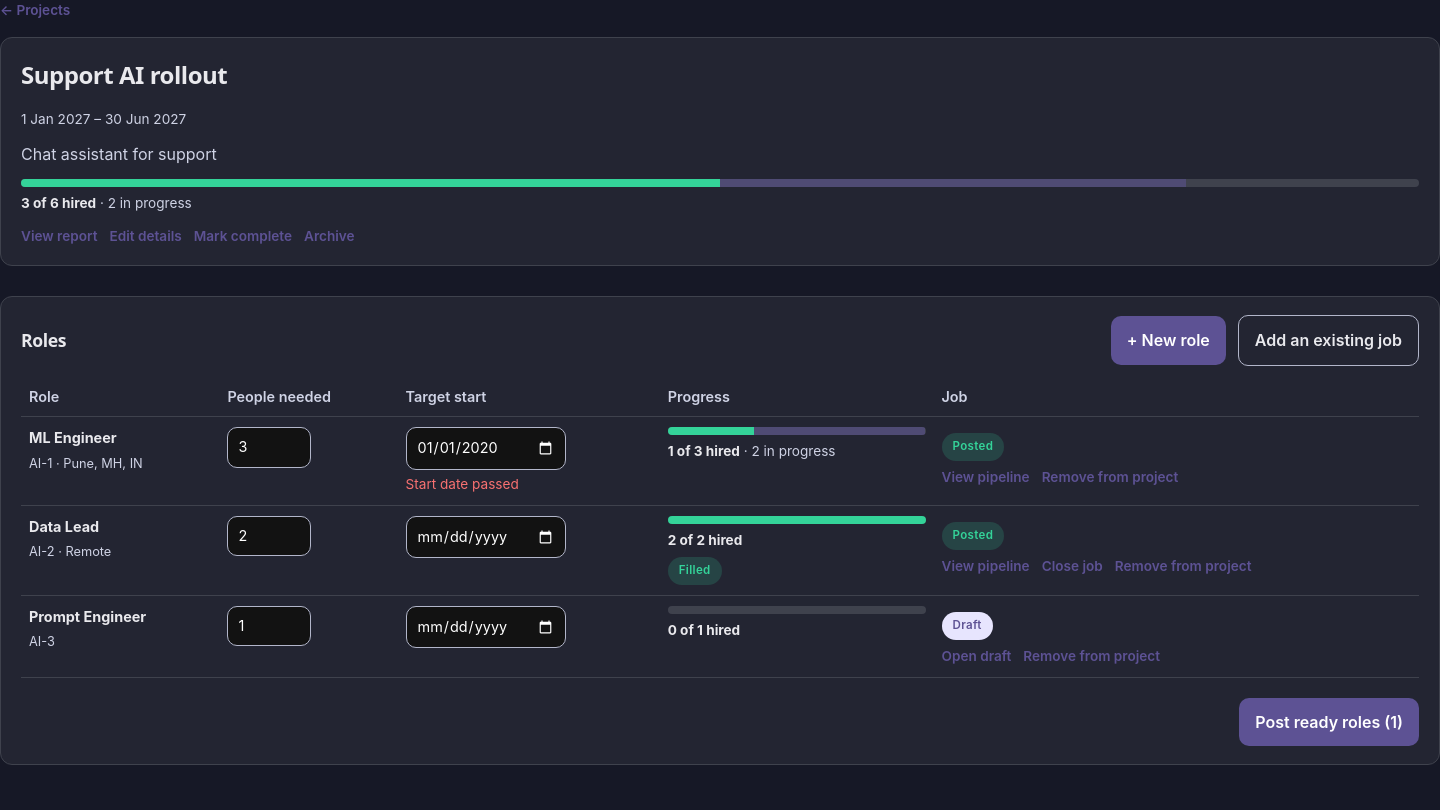
it: EmployerProjectDetail › adds an existing job, offering only jobs outside any project that are not closed
The width and height of the screenshot is (1440, 810).
Click the button "Add an existing job": (1328, 341) [1238, 315, 1419, 366]
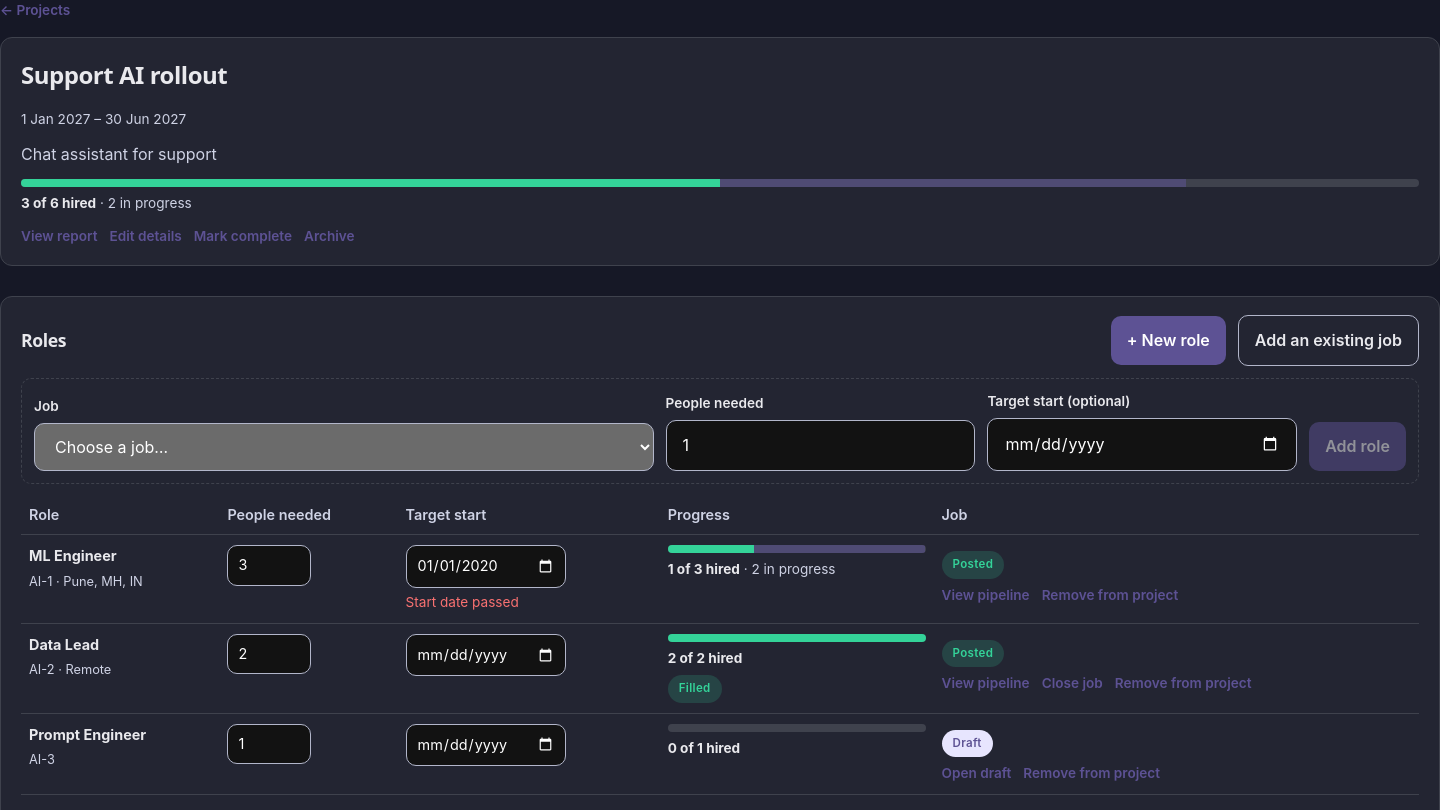
Select "MLOps Engineer (AI-7) · Posted" in the dropdown labelled "Job": (344, 447) [34, 423, 654, 471]
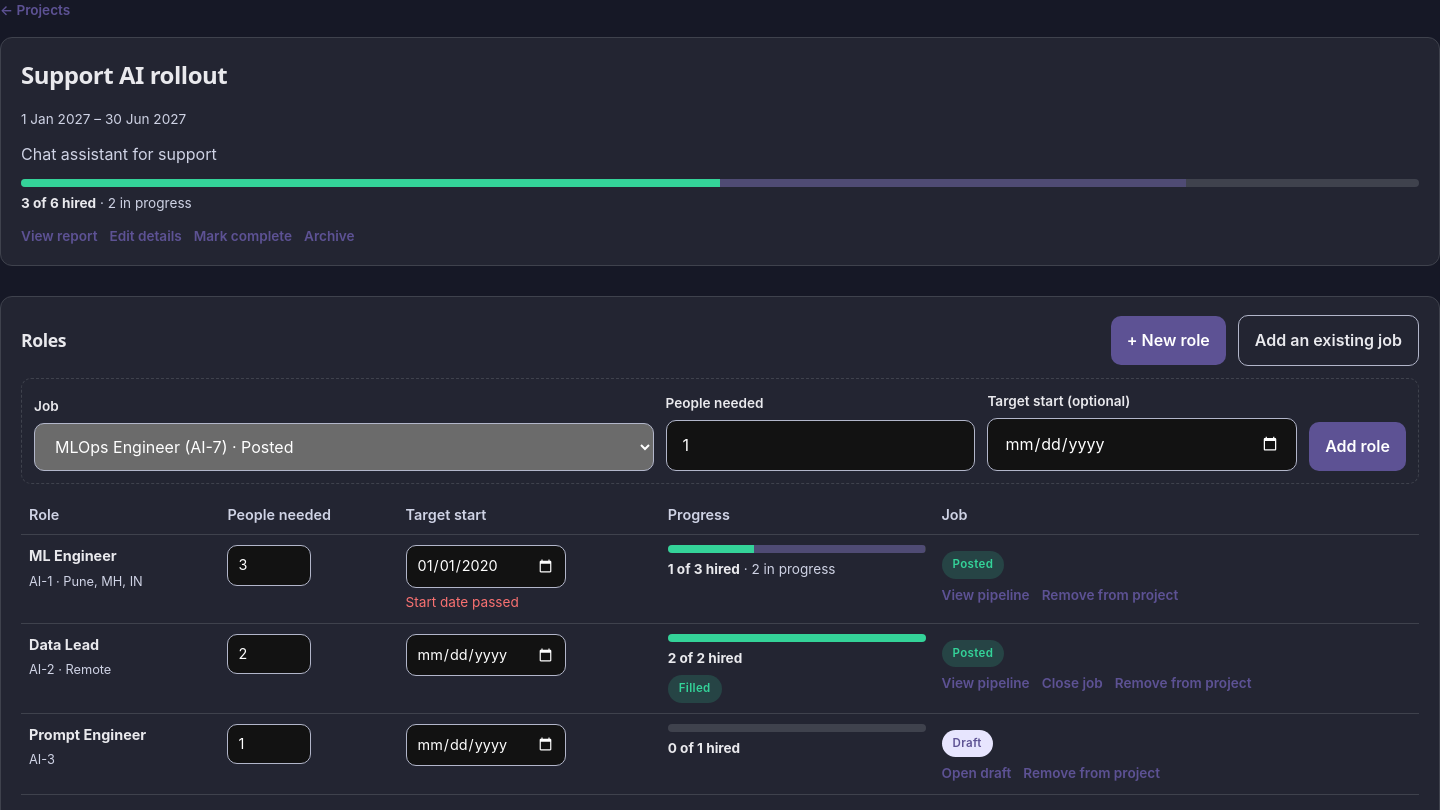
Replace the text in the number field labelled "People needed" with "2": (820, 446) [666, 420, 975, 471]
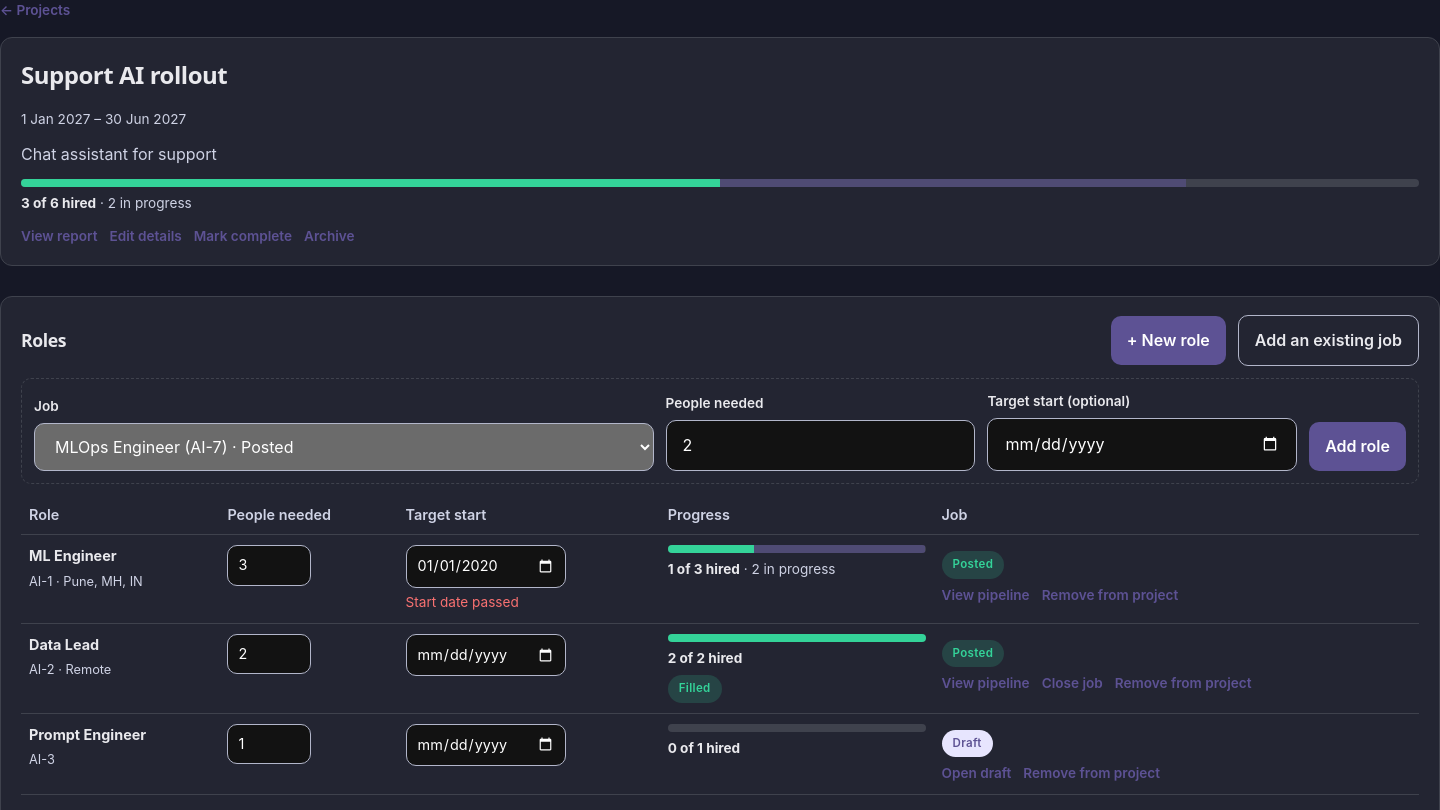
Click the button "Add role": (1358, 446) [1309, 422, 1406, 471]
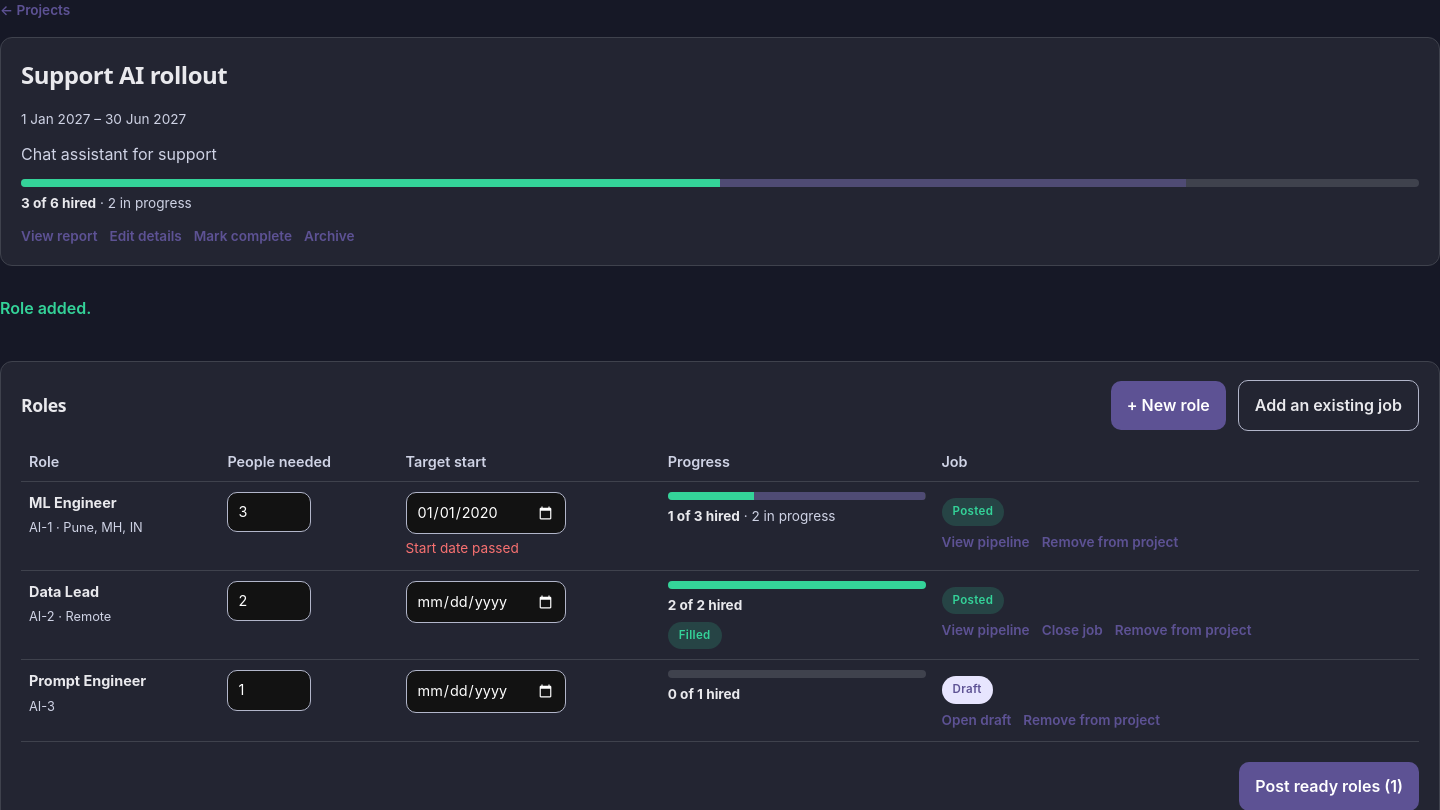
Now the text "Role added." is shown, box [0, 298, 91, 318]
